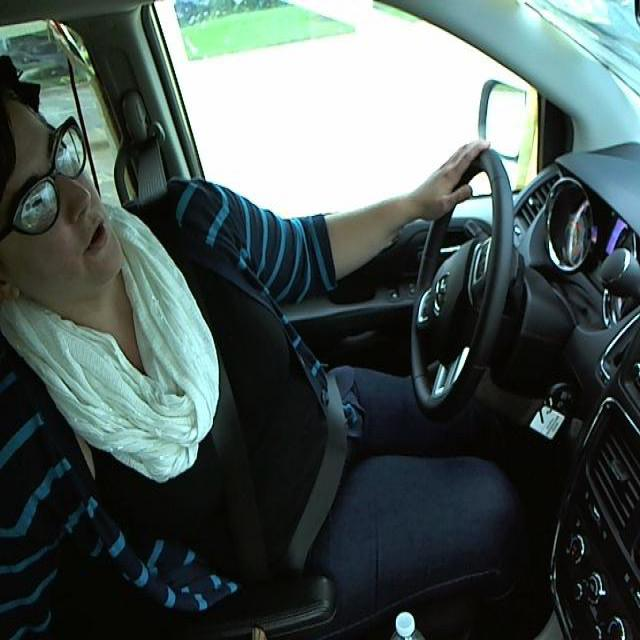seatbelt: (132, 191, 352, 557)
